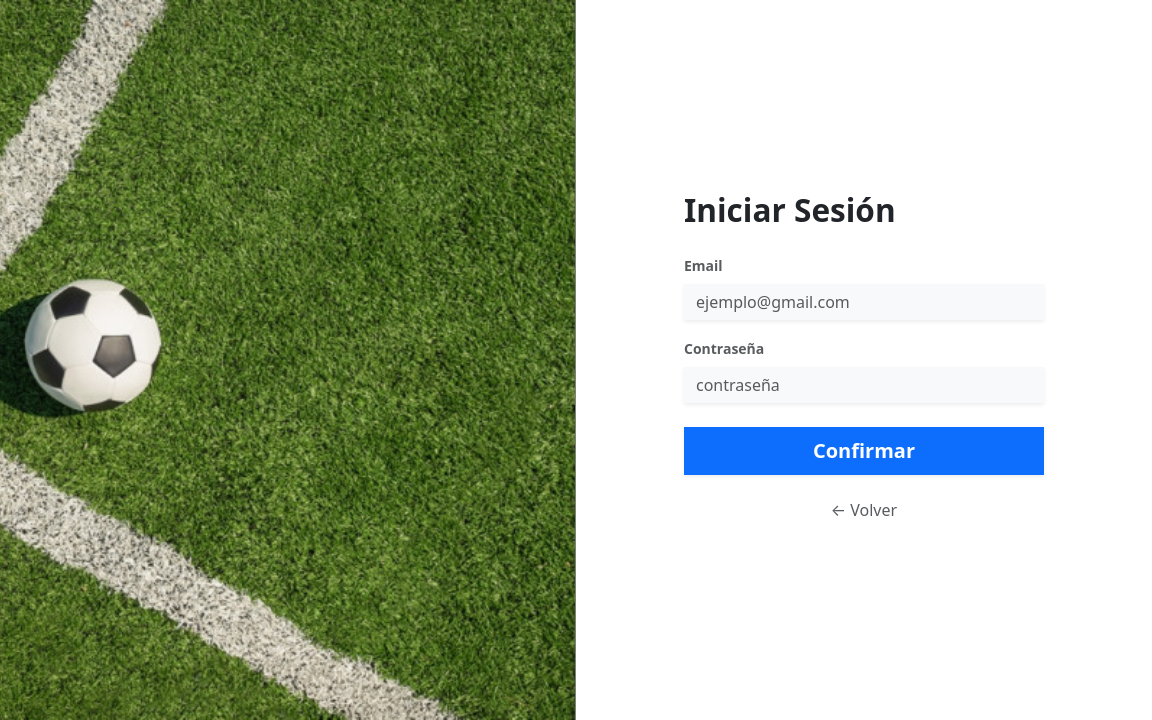
Test: FormInicioSesion › muestra un mensaje cuando falla el login
In the field labelled "Email": (864, 302) left=684, top=284, right=1044, bottom=320, type "joel@gmail.com"
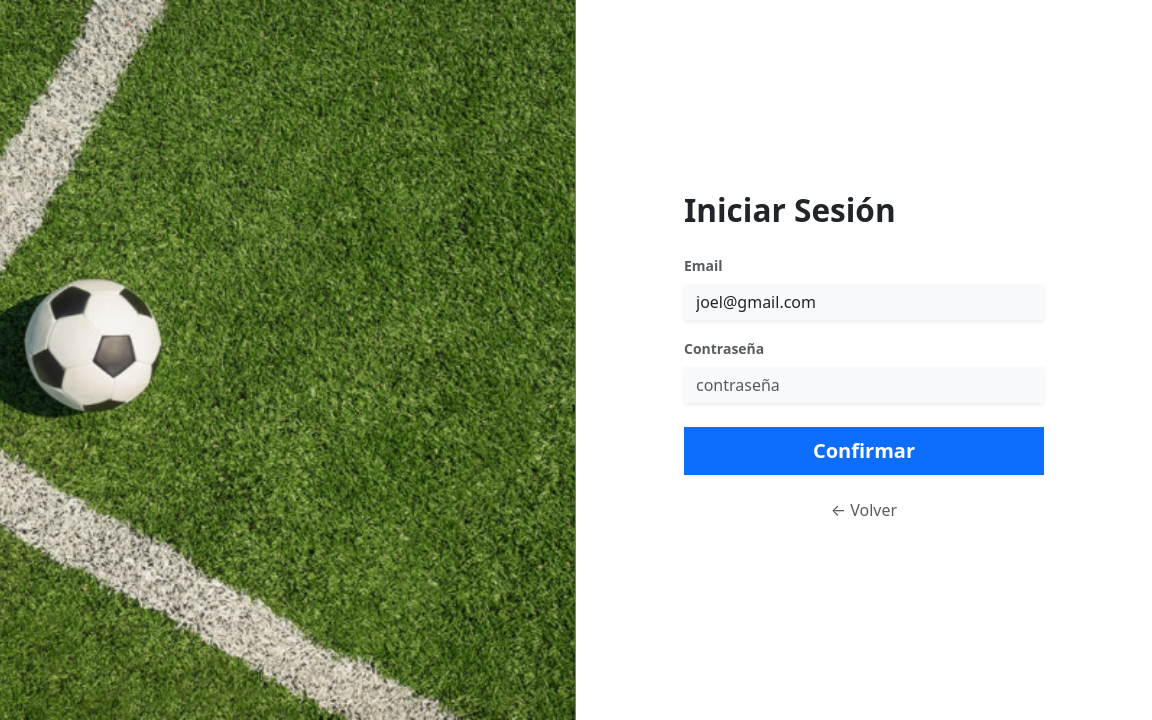
In the password field labelled "Contraseña": (864, 385) left=684, top=367, right=1044, bottom=403, type "123456"
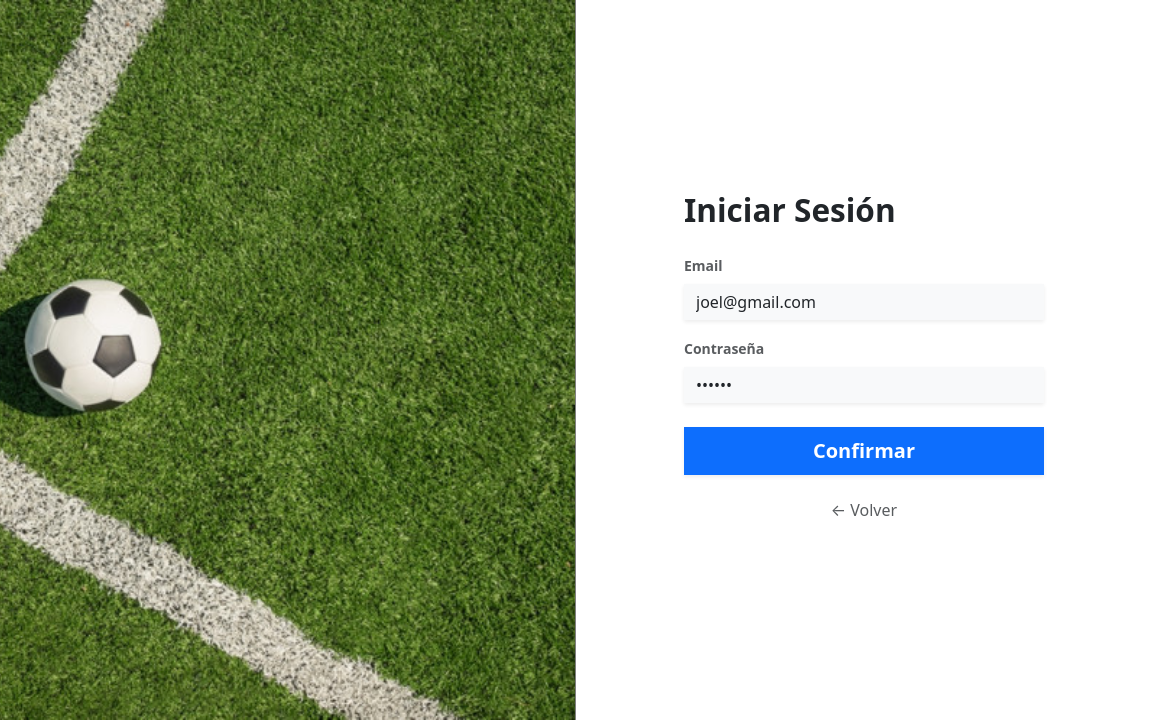
Click the button "Confirmar": click(864, 451) left=684, top=427, right=1044, bottom=475
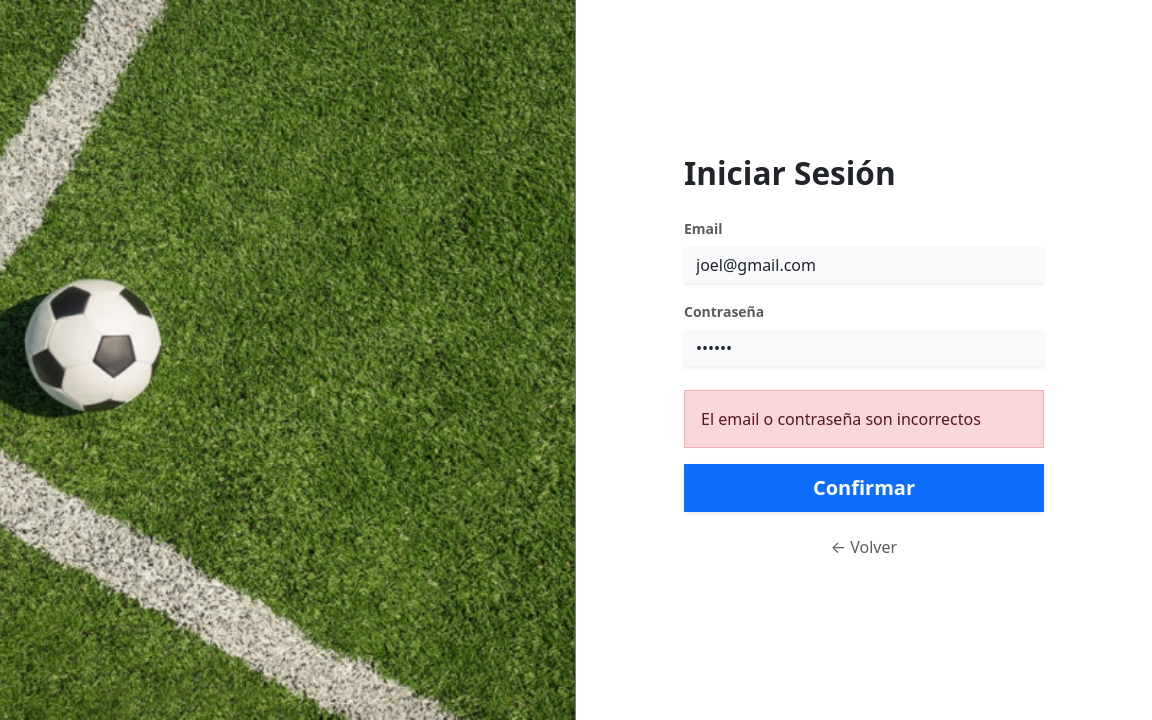
Result: the text "El email o contraseña son incorrectos" is shown at left=684, top=390, right=1044, bottom=448
